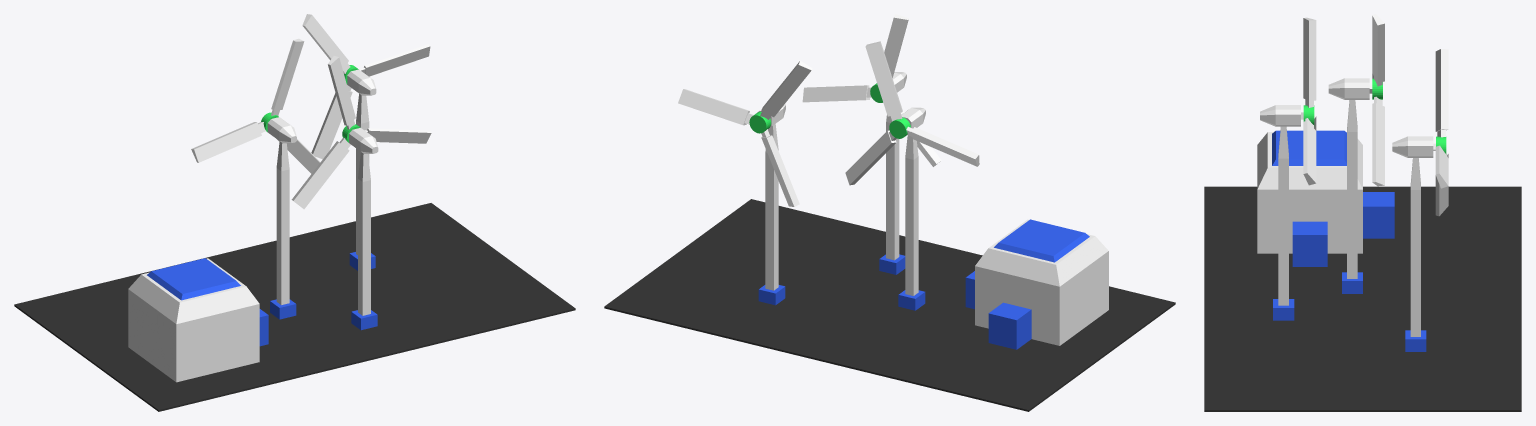
Rendered from PowerPlantWind.fbx.
3 views of the same model, side by side, from view 1: azimuth 30°, elevation 25°; view 2: azimuth 150°, elevation 25°; view 3: azimuth 270°, elevation 25° (orthographic). The views are drawn at different scales.
Visible parts, largest first — view 1: Base, MainBuilding, RotorPropellers, TurbineMast.003, TurbineMast, RotorPropellers.002, RotorPropellers.001, TurbineMast.004; view 2: Base, MainBuilding, RotorPropellers.001, RotorPropellers.002, TurbineMast.003, TurbineMast.004, RotorPropellers, TurbineMast; view 3: Base, MainBuilding, TurbineMast.004, TurbineMast, TurbineMast.003, RotorPropellers, RotorPropellers.002, RotorPropellers.001.
Boxes of the visible parts, x1,y1,x2,y2 form: Base: [14, 203, 575, 411]; MainBuilding: [128, 258, 268, 382]; RotorPropellers: [291, 56, 431, 209]; TurbineMast.003: [267, 117, 296, 319]; TurbineMast: [349, 127, 378, 330]; RotorPropellers.002: [302, 14, 430, 159]; RotorPropellers.001: [191, 38, 320, 173]; TurbineMast.004: [347, 69, 376, 270]; Base: [604, 199, 1175, 411]; MainBuilding: [965, 219, 1108, 349]; RotorPropellers.001: [845, 41, 979, 185]; RotorPropellers.002: [678, 60, 812, 206]; TurbineMast.003: [898, 107, 925, 310]; TurbineMast.004: [757, 104, 785, 305]; RotorPropellers: [802, 14, 941, 166]; TurbineMast: [879, 72, 906, 274]; Base: [1204, 186, 1521, 411]; MainBuilding: [1257, 130, 1394, 266]; TurbineMast.004: [1392, 136, 1433, 351]; TurbineMast: [1260, 105, 1300, 320]; TurbineMast.003: [1328, 78, 1369, 293]; RotorPropellers: [1301, 17, 1316, 185]; RotorPropellers.002: [1433, 49, 1448, 216]; RotorPropellers.001: [1369, 14, 1384, 186].
Bounding box in the file's own units: 500 × 303 × 300.
